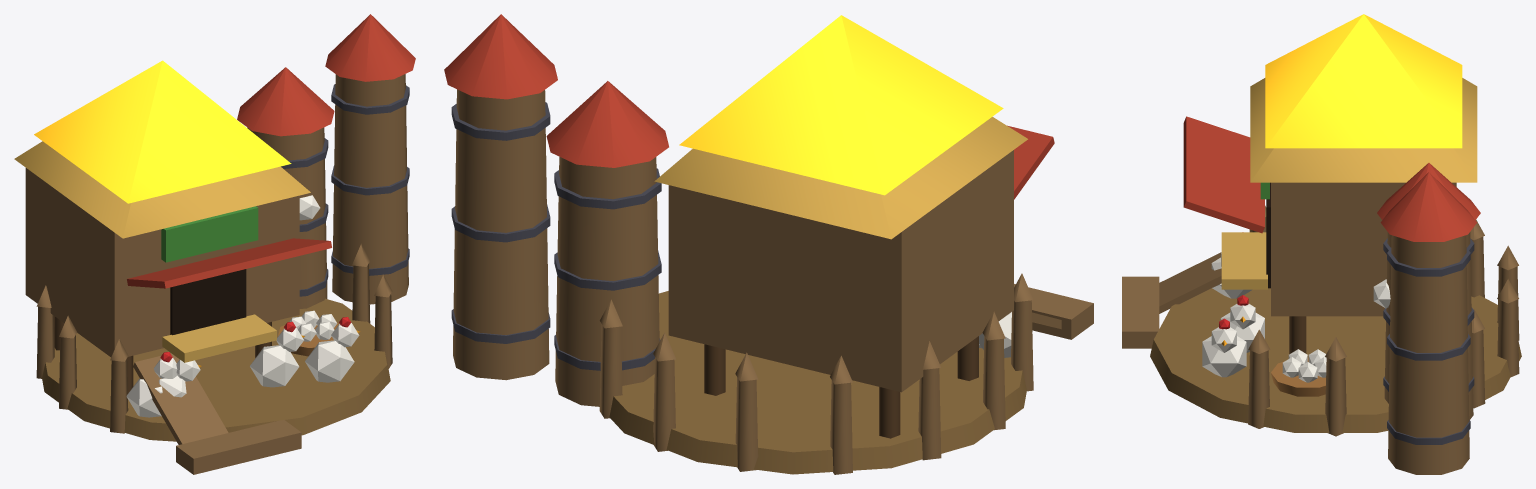
Rendered from goblin-level5.glb.
3 views of the same model, side by side, from view 1: azimuth 30°, elevation 25°; view 2: azimuth 150°, elevation 25°; view 3: azimuth 270°, elevation 25° (orthographic). The views are drawn at different scales.
Size of the model in its own units: 2.56 by 1.92 by 2.15.
